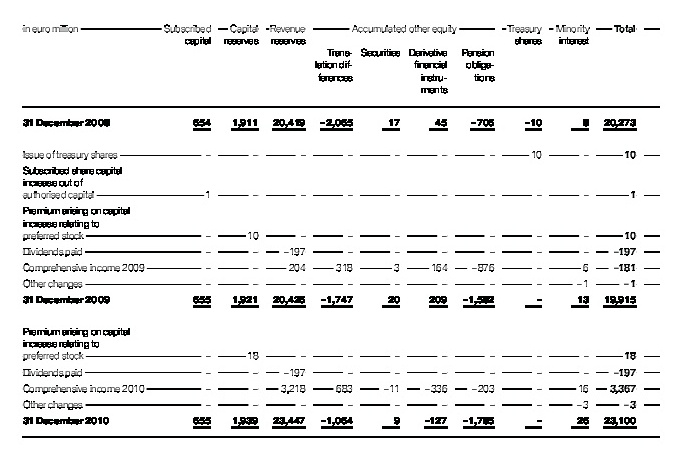table: (0, 0, 683, 459)
